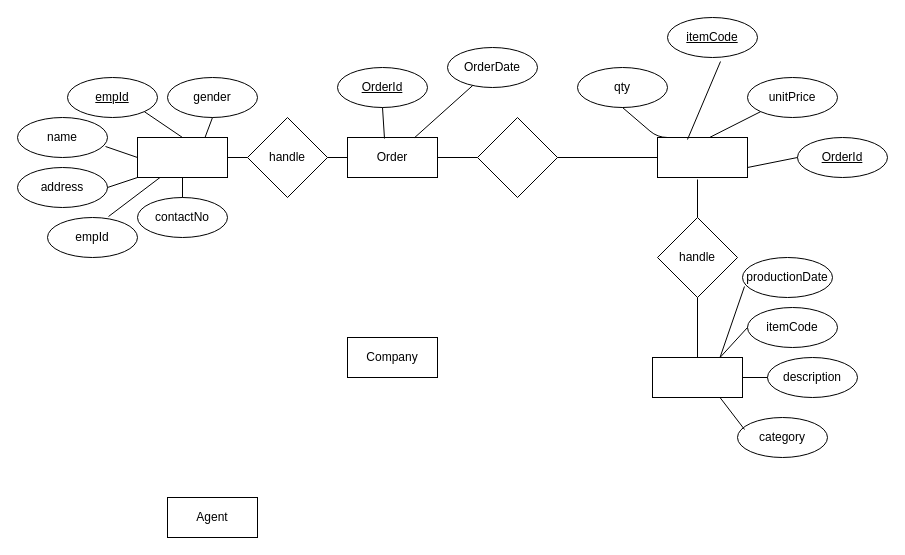
This 905x555 diagram has some shape labels left out. The shapes that lost their labels are listed below. From the top down, each one's box as (x1, y1, x2, y2) in pixels, then its label:
(136, 136, 228, 178): Employee
(476, 116, 558, 198): has
(656, 136, 748, 178): OrderDetails
(652, 356, 742, 398): Stock
